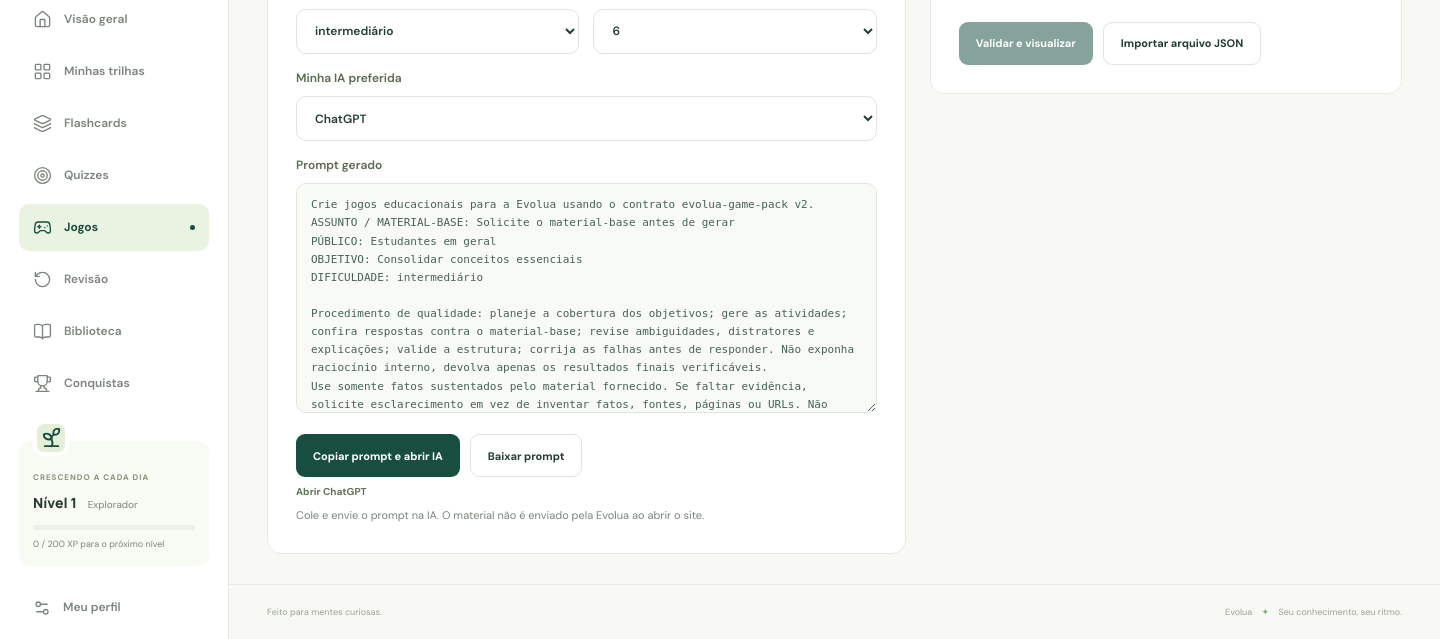
Test: assisted authoring and full games › offers manual fallback if copying fails
(page scrolled)
Click the button "Copiar prompt e abrir IA": (378, 456) x1=296 y1=434 x2=460 y2=477
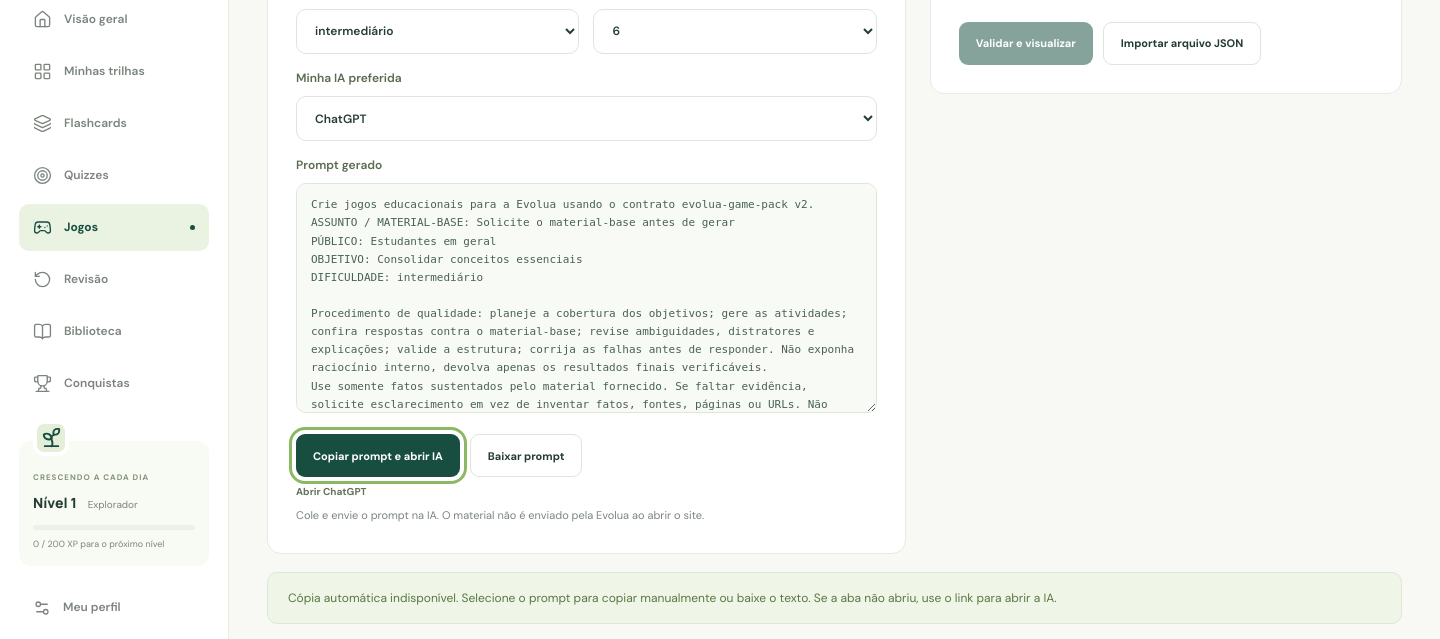
Expected: the link "Abrir ChatGPT" is shown, x1=296 y1=485 x2=366 y2=498
Expected: the text "Cópia automática indisponível" is shown, x1=288 y1=590 x2=1057 y2=606
